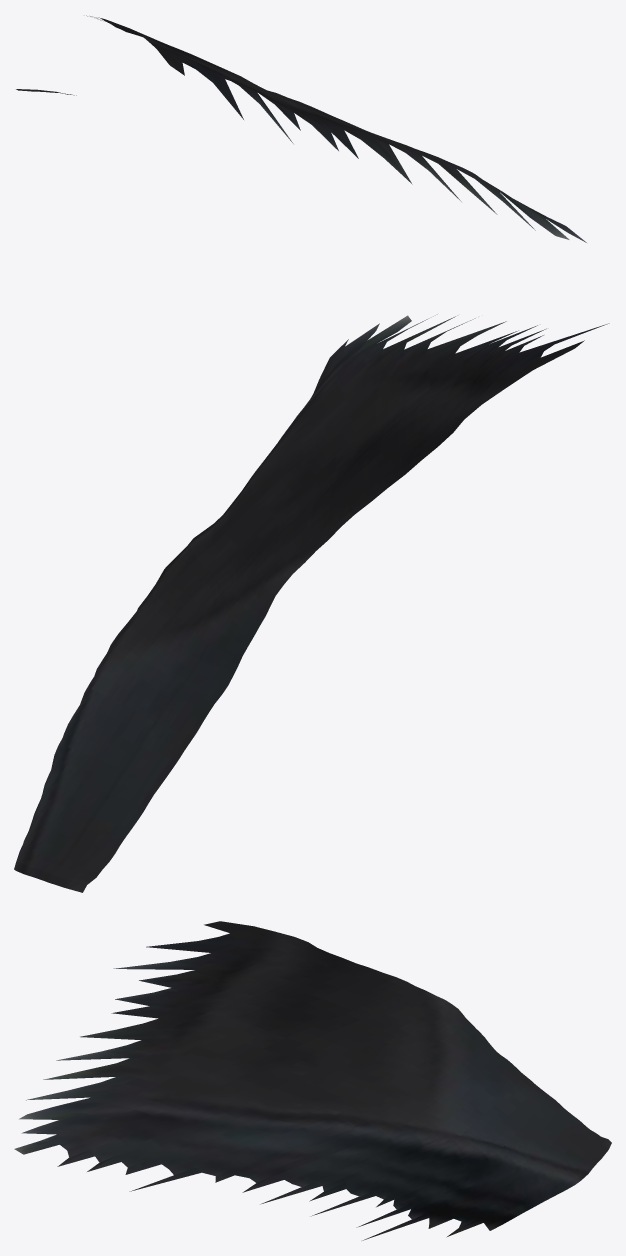
The model's file is observed-surface.glb.
The picture shows the model from 3 angles, top to bottom: view 1: azimuth 30°, elevation 25°; view 2: azimuth 150°, elevation 25°; view 3: azimuth 270°, elevation 25°; orthographic projection. The views are drawn at different scales.
Parts seen in each view (by area): view 1: geometry_0; view 2: geometry_0; view 3: geometry_0.
Part boxes in pixels (left/top/right/bottom): geometry_0: left=16, top=15, right=586, bottom=242; geometry_0: left=14, top=314, right=609, bottom=892; geometry_0: left=14, top=921, right=611, bottom=1240.
Bounding box in the file's own units: 0.4442 × 0.4517 × 1.03.
Materials: 1 (1 with a texture image).
